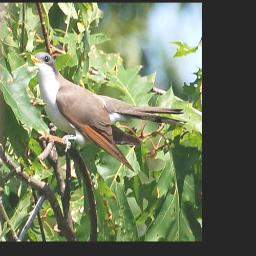Cuckoo: (30, 51, 188, 172)
